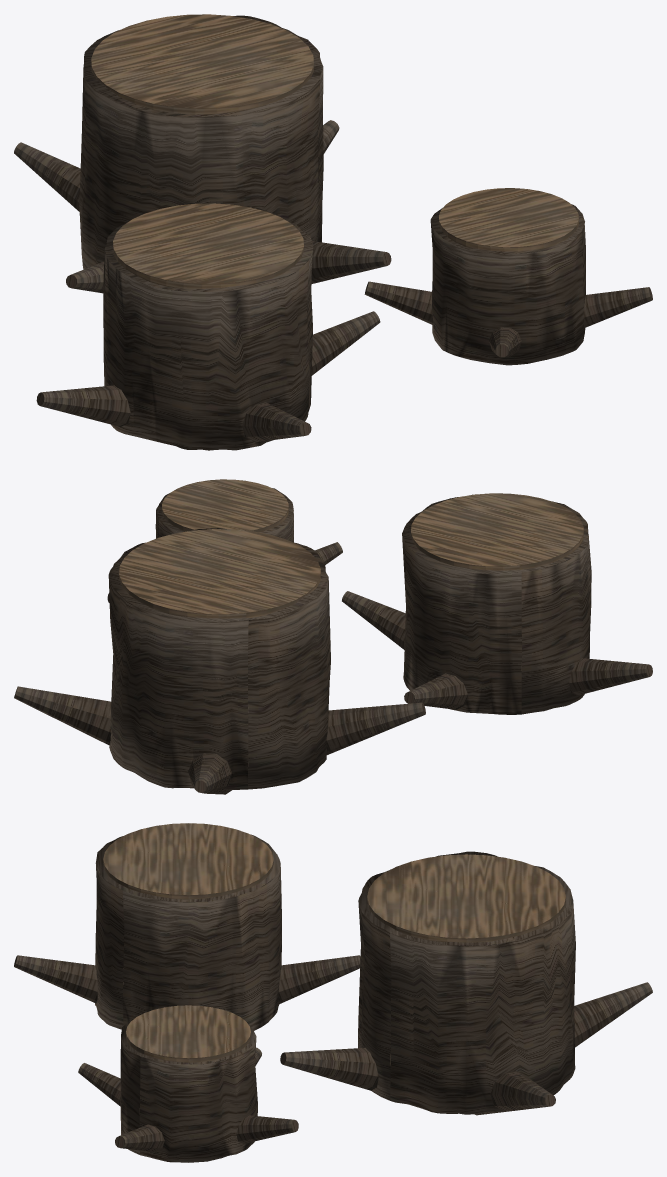
File: NT06_TreeStump.glb
3 renders of one model, top to bottom at view 1: azimuth 30°, elevation 25°; view 2: azimuth 150°, elevation 25°; view 3: azimuth 270°, elevation 25°, orthographic. The views are drawn at different scales.
Parts seen in each view (by area): view 1: NT06_TreeStump; view 2: NT06_TreeStump; view 3: NT06_TreeStump.
Boxes of the visible parts, box(x1,y1,x2,y2) form: NT06_TreeStump: box(14, 14, 652, 450); NT06_TreeStump: box(14, 479, 652, 794); NT06_TreeStump: box(14, 823, 652, 1162).
Size of the model in its own units: 0.5575 by 0.2069 by 0.6.
Materials: 2 (2 with a texture image).
